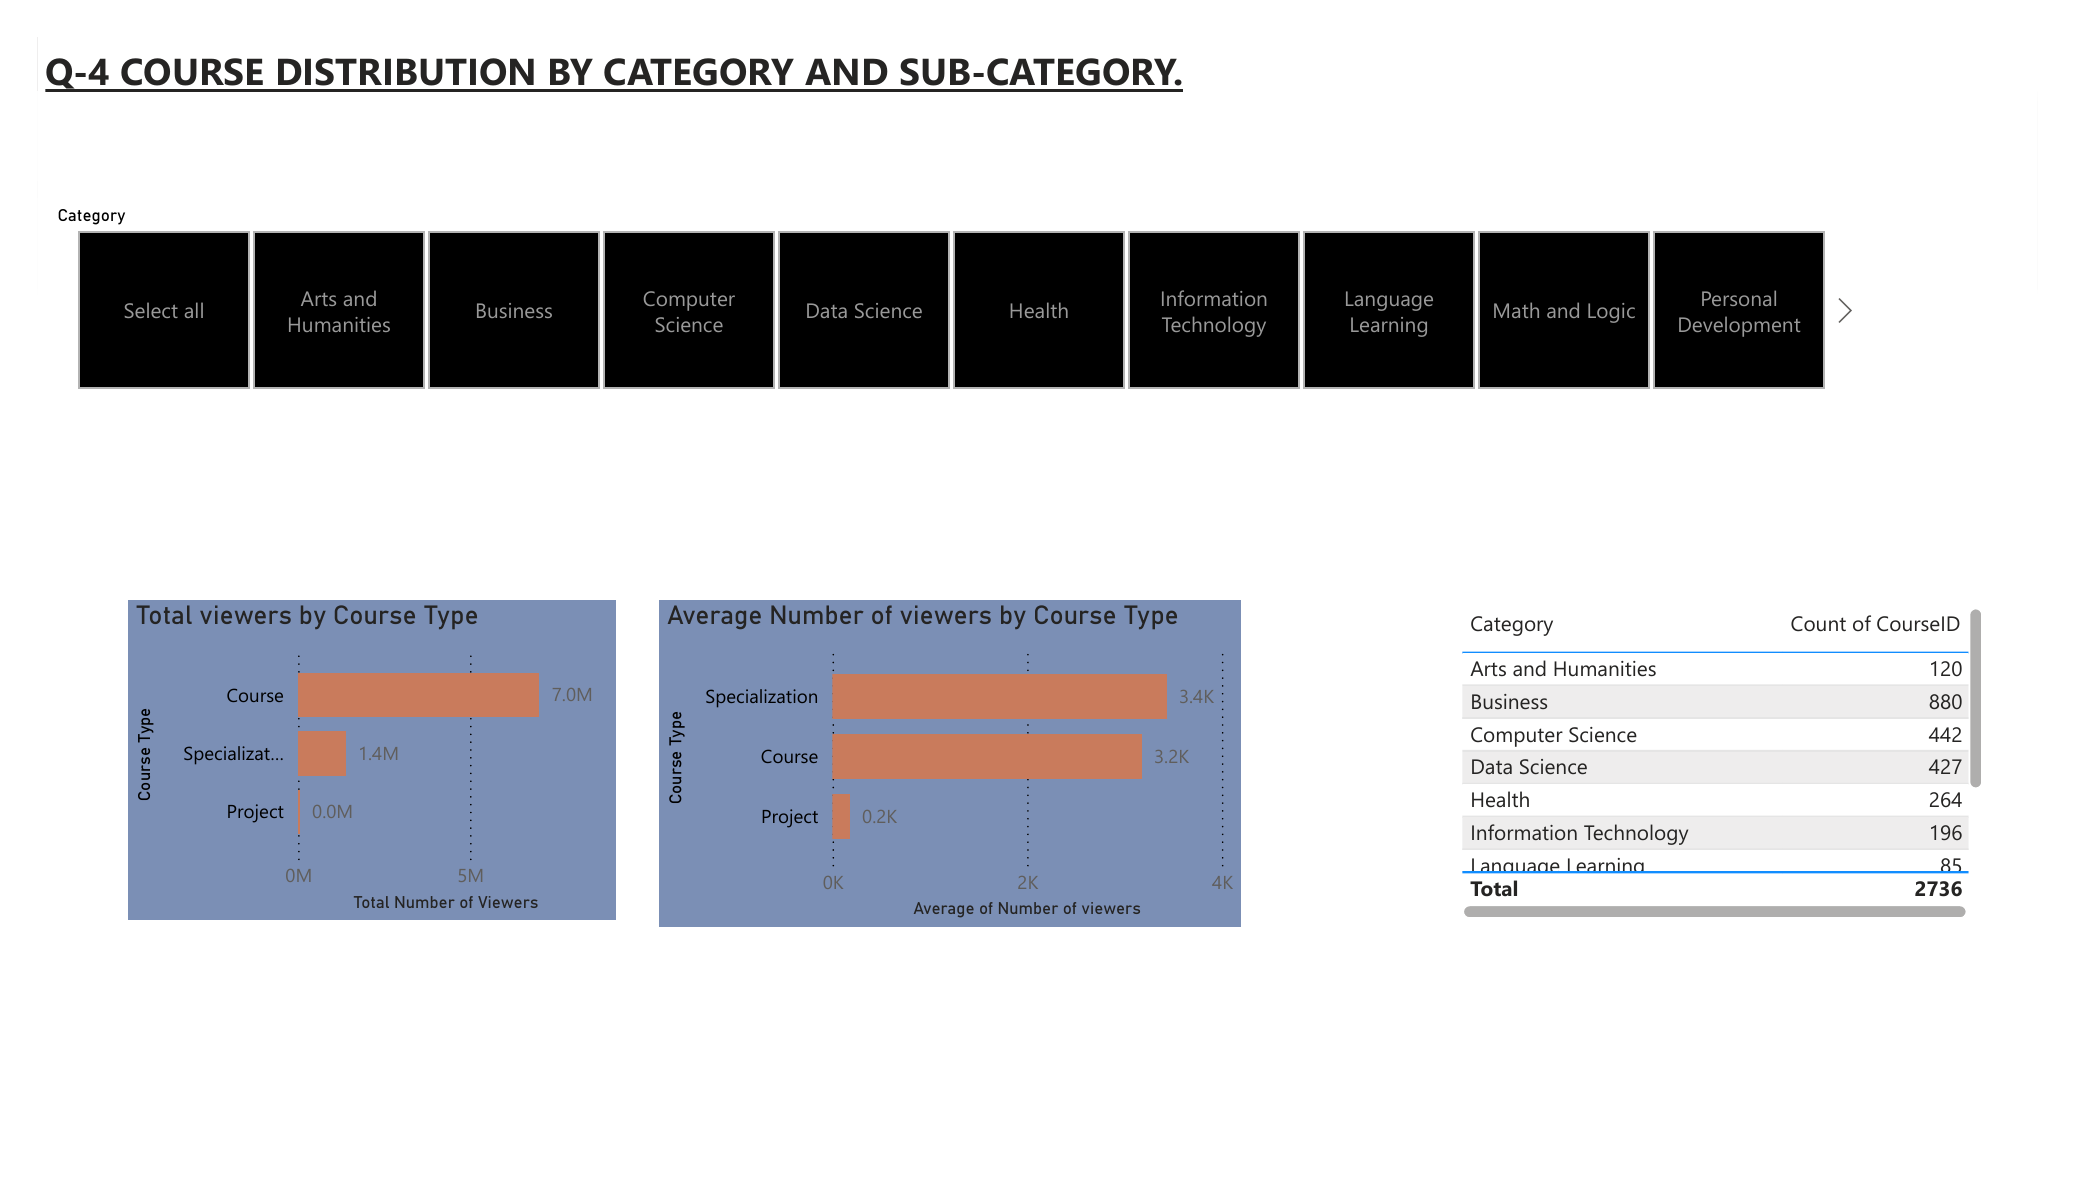

This screenshot's page, from the dashboard's own definition file:
{"tool":"powerbi","page":{"name":"Q-4","canvas":[1280,720],"ordinal":4},"visuals":[{"type":"slicer","fields":{"Values":["Online_Courses.Category"]},"box":[0,102.9,1167.8,129],"z":0},{"type":"barChart","title":"Average Number of viewers by Course Type","fields":{"Y":["Avg(Online_Courses.Number of viewers)"],"Category":["Online_Courses.Course Type"]},"box":[397.9,359.5,371.9,209.9],"z":1000},{"type":"barChart","title":"Total viewers by Course Type","fields":{"Y":["Sum(Online_Courses.Number of viewers)"],"Category":["Online_Courses.Course Type"]},"box":[57.6,359.5,312.9,205.8],"z":2000},{"type":"tableEx","fields":{"Values":["Online_Courses.Category","Online_Courses.CourseID"]},"box":[905.7,359.5,344.4,209.9],"z":3000},{"type":"textbox","box":[0,0,741,91.9],"z":4000}]}

Visuals, with their boxes on the page's 1280x720 design canvas (x1, y1, x2, y2). These are canvas units, not pixel positions in the 2075x1200 screenshot, which may show the page scaled, cropped or inside an application window:
slicer - Online_Courses.Category: pyautogui.locateOnScreen(0, 103, 1168, 232)
"Average Number of viewers by Course Type" barChart: pyautogui.locateOnScreen(398, 360, 770, 569)
"Total viewers by Course Type" barChart: pyautogui.locateOnScreen(58, 360, 370, 565)
tableEx - Online_Courses.Category x Online_Courses.CourseID: pyautogui.locateOnScreen(906, 360, 1250, 569)
textbox: pyautogui.locateOnScreen(0, 0, 741, 92)
